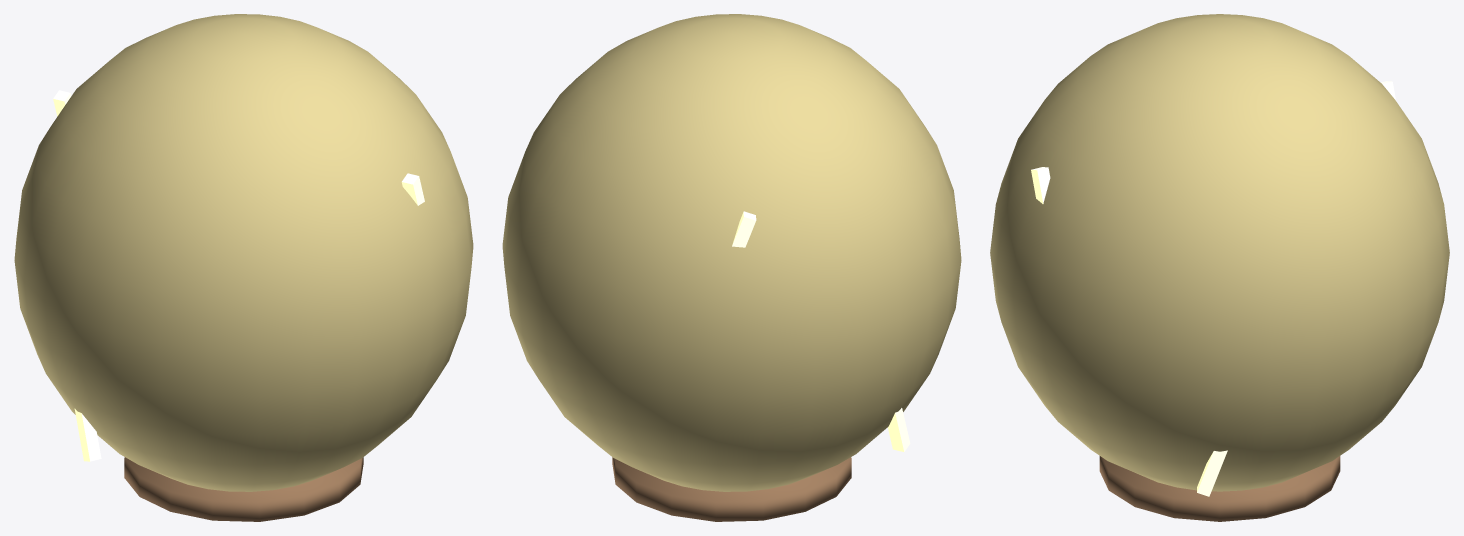
File: egg_desert_09.glb
3 views of the same model, side by side, from view 1: azimuth 30°, elevation 25°; view 2: azimuth 150°, elevation 25°; view 3: azimuth 270°, elevation 25° (orthographic).
Parts seen in each view (by area): view 1: ball; view 2: ball; view 3: ball.
Part boxes in pixels (x1,y1,x2,y2): ball: (14, 14, 473, 521); ball: (502, 14, 961, 521); ball: (990, 14, 1449, 521).
Bounding box in the file's own units: 0.84 × 0.88 × 0.84.
